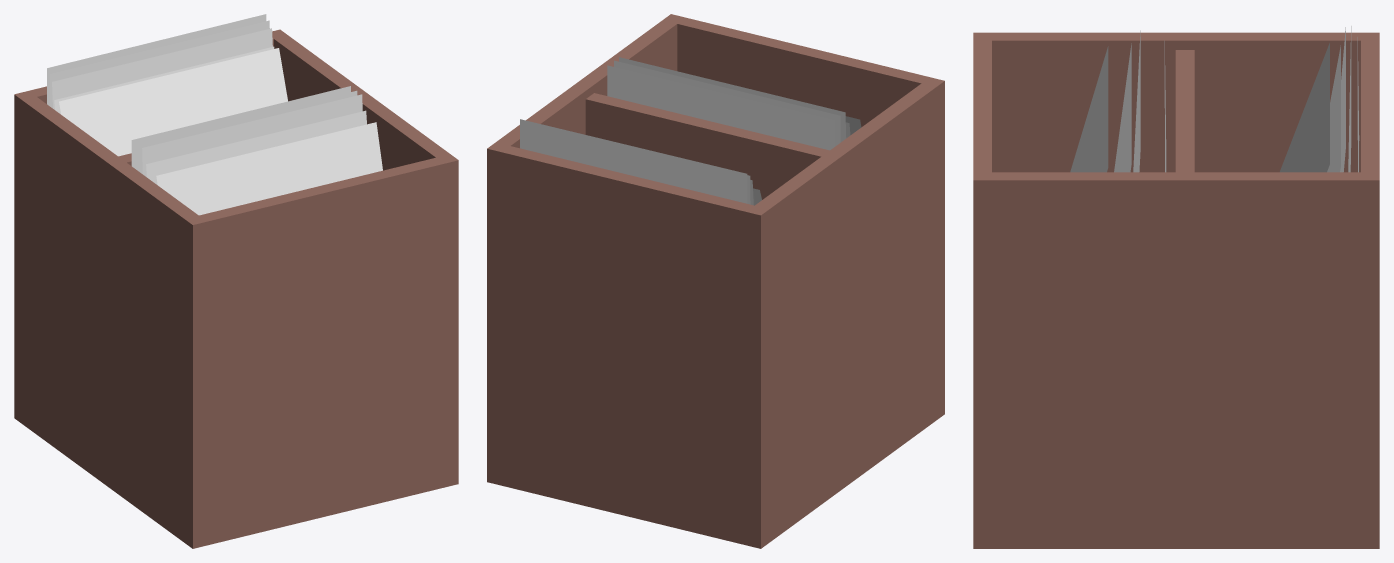
3 views of the same model, side by side, from view 1: azimuth 30°, elevation 25°; view 2: azimuth 150°, elevation 25°; view 3: azimuth 270°, elevation 25° (orthographic). The views are drawn at different scales.
Visible parts, largest first — view 1: SM_box_001; view 2: SM_box_001; view 3: SM_box_001.
Boxes of the visible parts, x1,y1,x2,y2 form: SM_box_001: [14, 14, 458, 548]; SM_box_001: [487, 14, 944, 548]; SM_box_001: [973, 26, 1379, 548].
Bounding box in the file's own units: 26.24 × 30.53 × 33.14.
